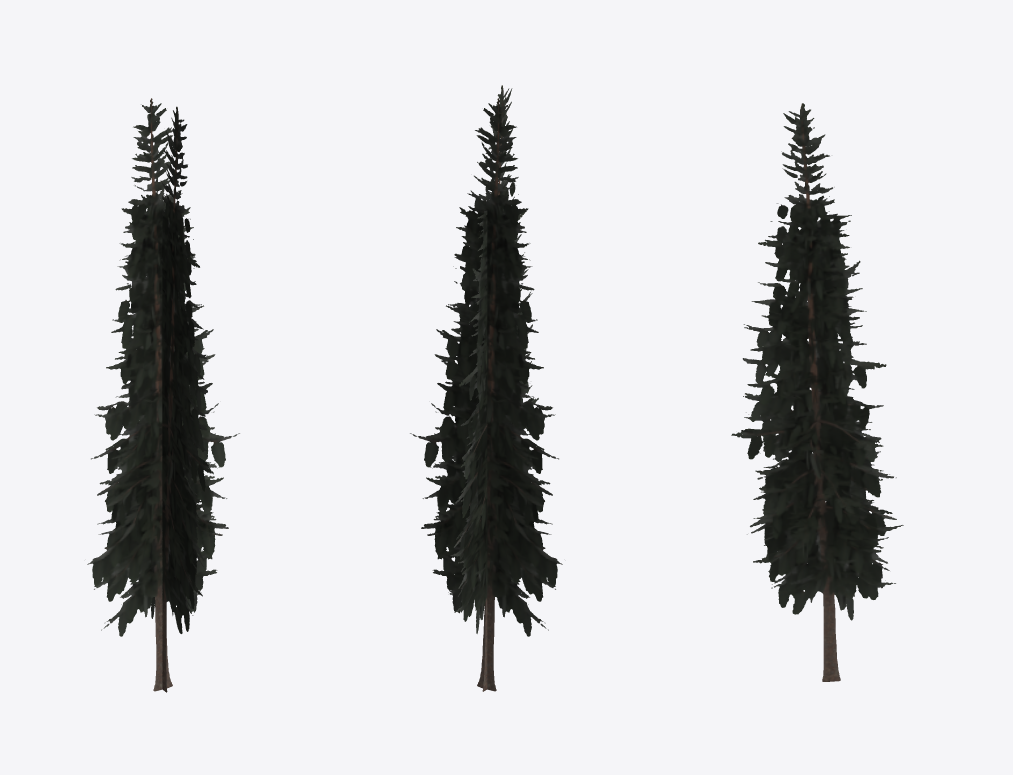
The model's file is spruce_b_LOD2_billboard.glb.
3 renders of one model, left to right at view 1: azimuth 30°, elevation 25°; view 2: azimuth 150°, elevation 25°; view 3: azimuth 270°, elevation 25°, orthographic. The views are drawn at different scales.
Parts seen in each view (by area): view 1: Spruce_B_LOD2_Billboard; view 2: Spruce_B_LOD2_Billboard; view 3: Spruce_B_LOD2_Billboard.
Part boxes in pixels (box(x1,y1,x2,y2)): Spruce_B_LOD2_Billboard: box(87, 98, 239, 692); Spruce_B_LOD2_Billboard: box(410, 85, 562, 691); Spruce_B_LOD2_Billboard: box(731, 103, 903, 681).
Bounding box in the file's own units: 12.02 × 24.03 × 12.02.
Materials: 1 (1 with a texture image).
